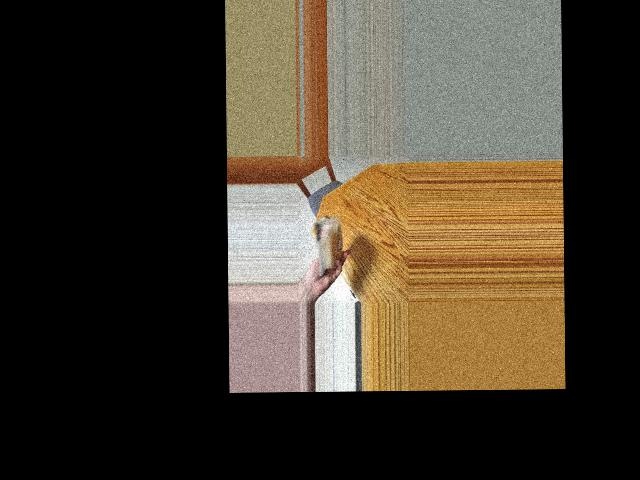cheese: (309, 217, 348, 270)
